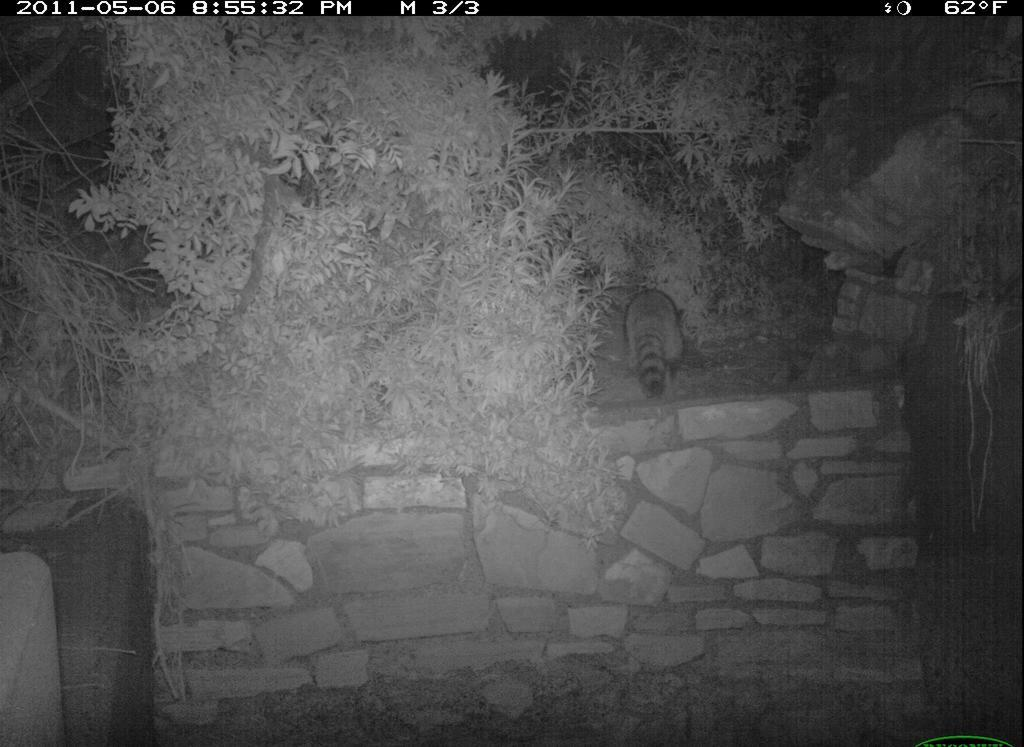raccoon: (605, 262, 706, 410)
